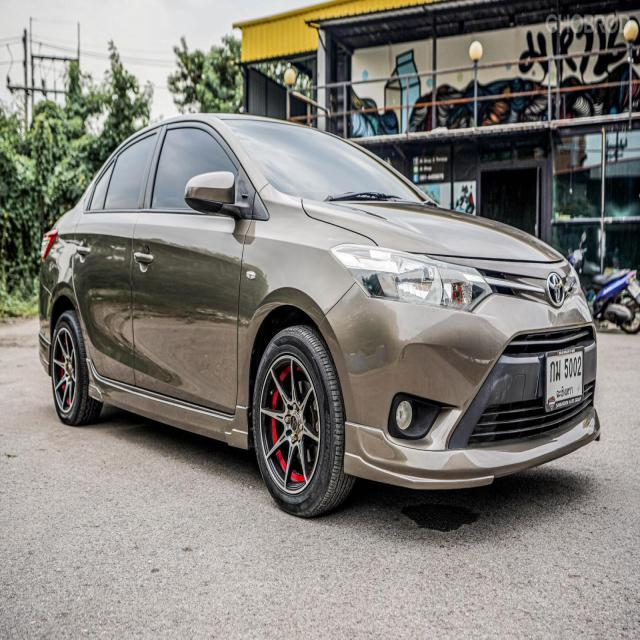license_plate: (540, 341, 586, 421)
